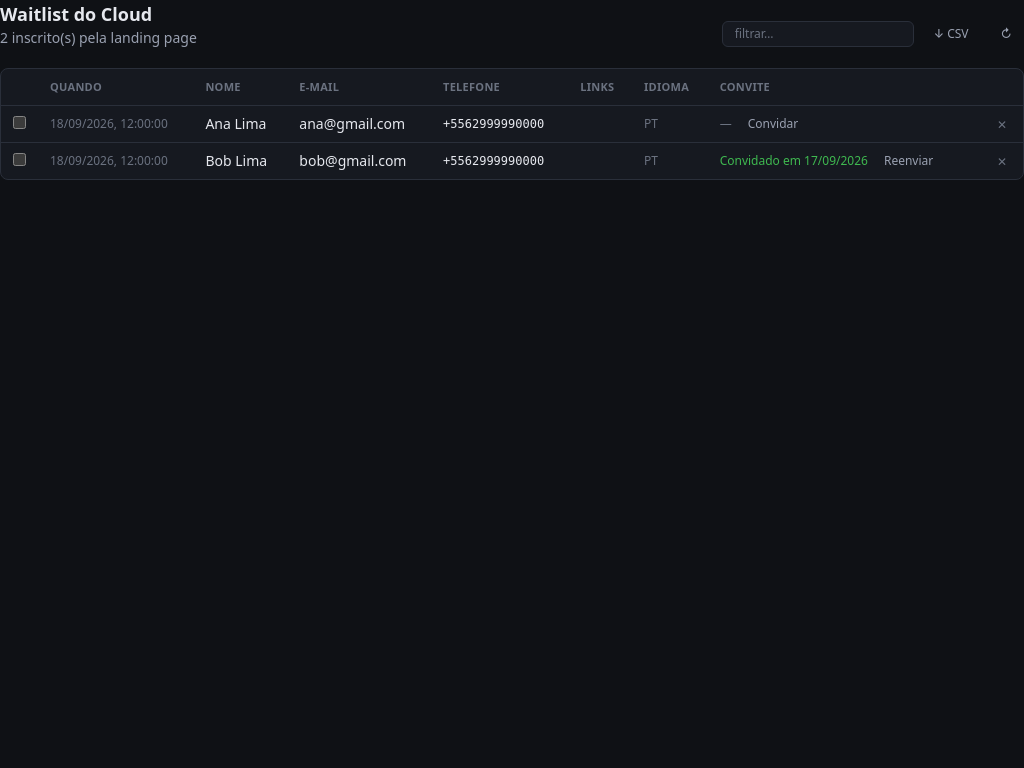
Test case: WaitlistView invites › invites the checked entries in one batch
The image size is (1024, 768).
Expected: the link "ana@gmail.com" is shown, [299,114,405,133]
Expected: the button "Convidar selecionados" is not shown
Click the checkbox named "Selecionar ana@gmail.com". click: click(20, 122)
box: [13,116,26,129]
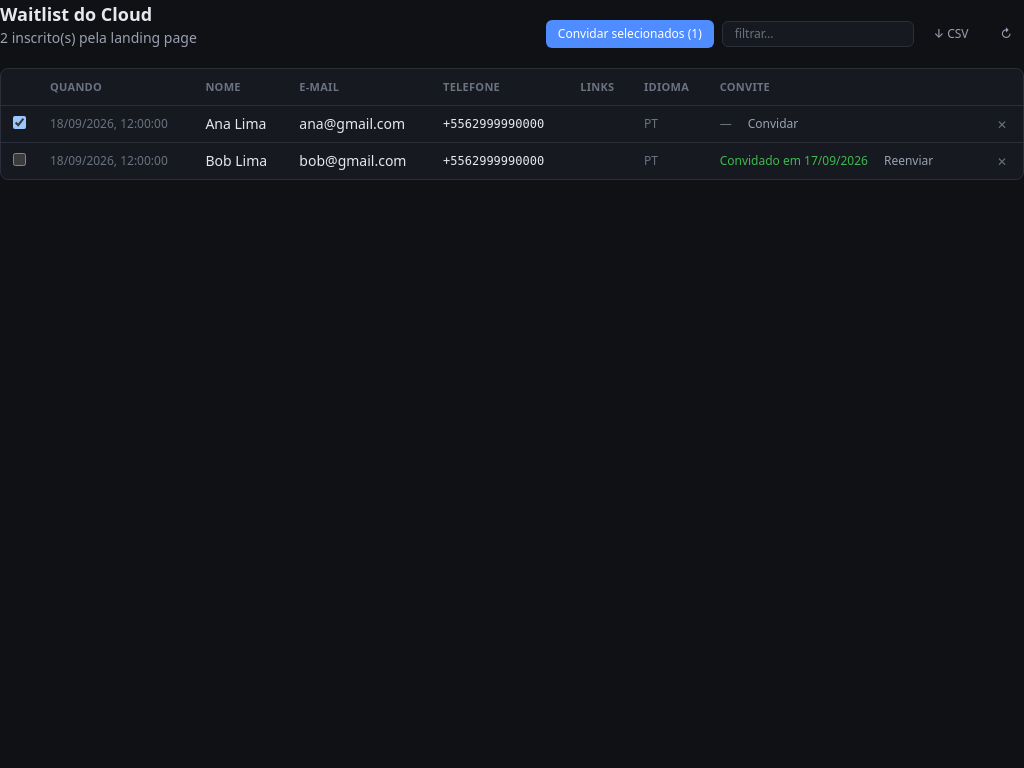
Click the checkbox named "Selecionar bob@gmail.com". click: click(20, 160)
box: [13,153,26,166]
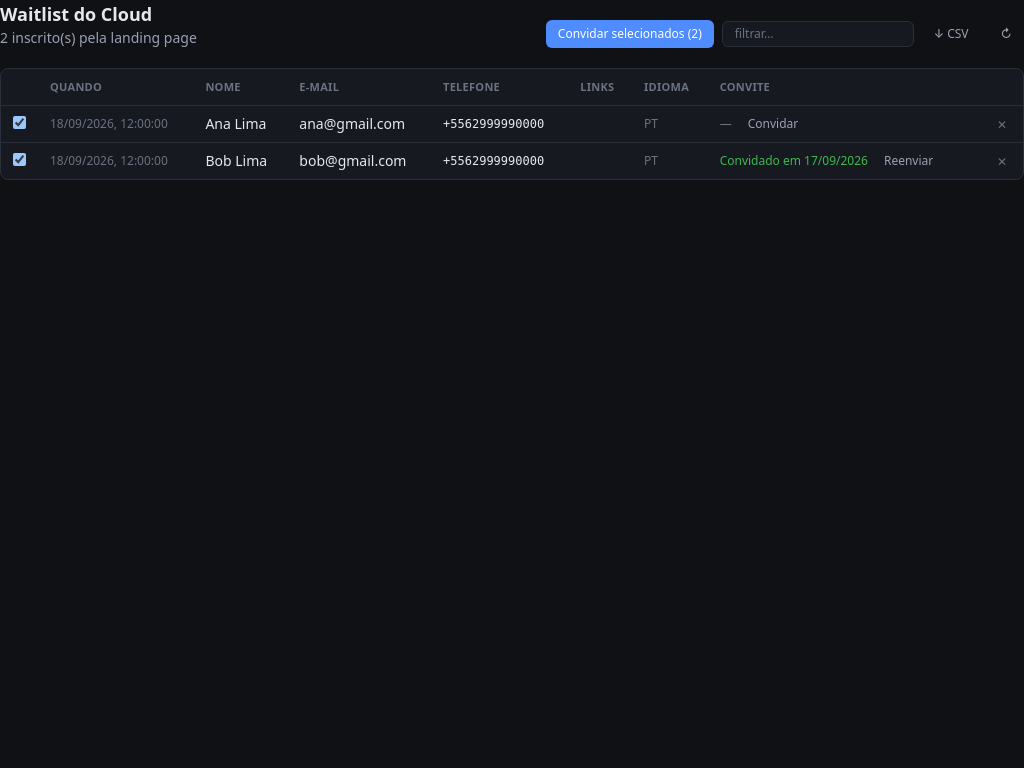
Click the button "Convidar selecionados (2)". click: click(630, 34)
box: [546,20,714,48]
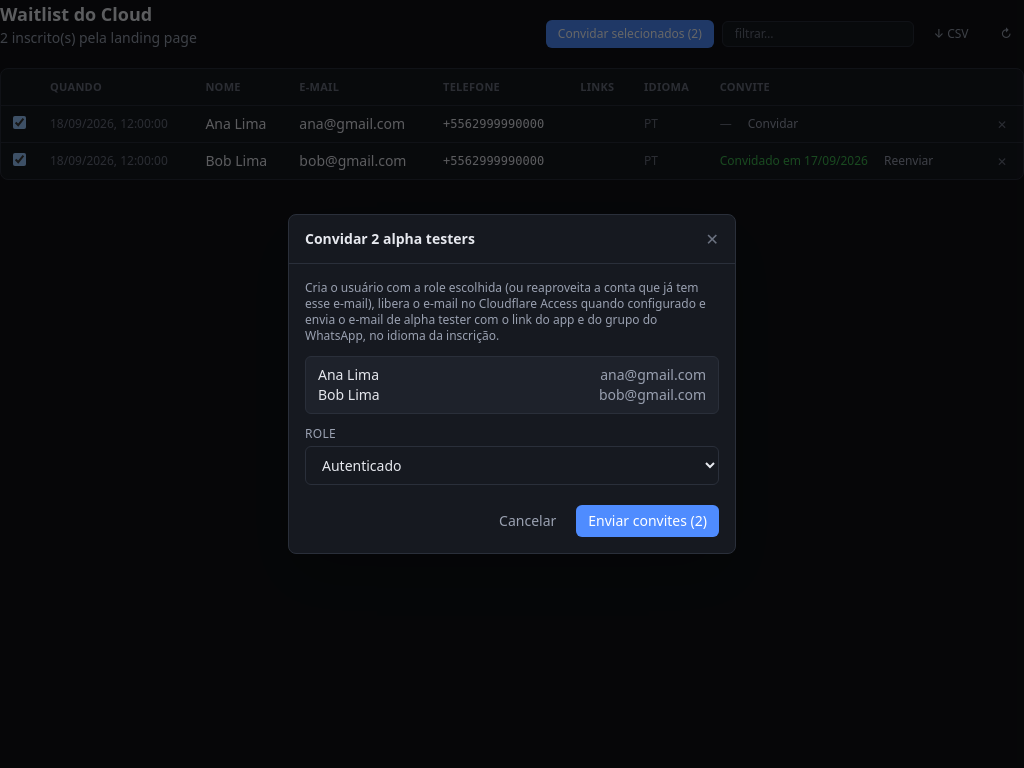
Click the button "Enviar convites (2)". click: click(648, 521)
box: [576,505,719,537]
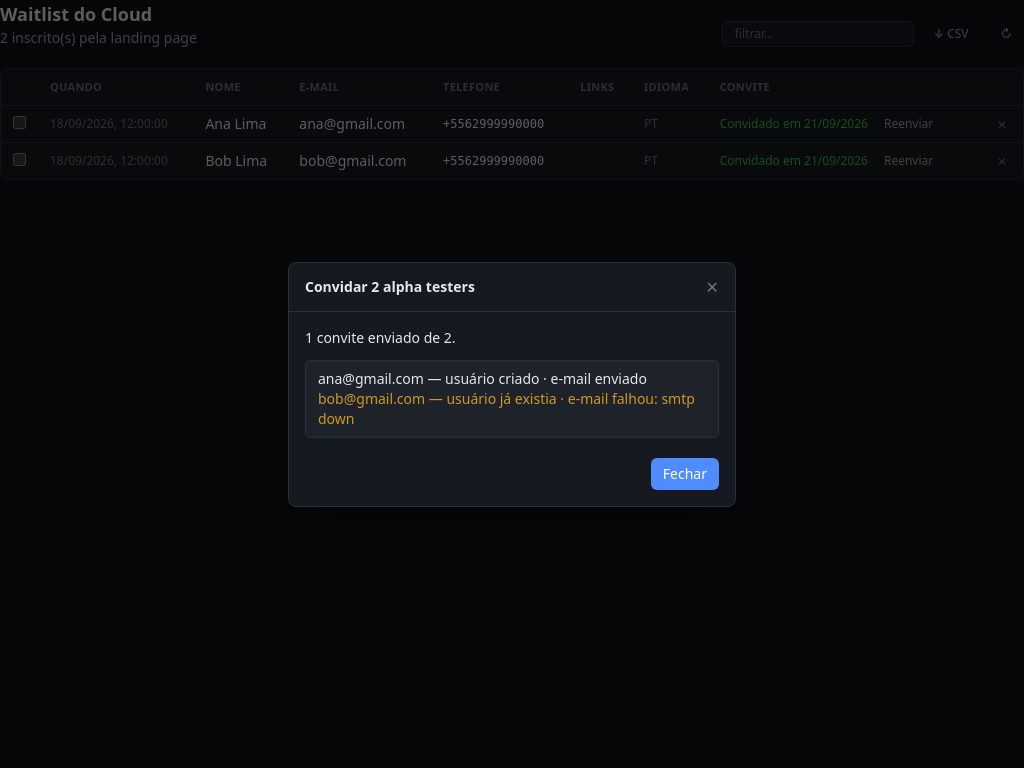
Expected: the text "1 convite enviado de 2." is shown, [305,328,456,346]
Expected: the list item "smtp down" is shown, [318,388,695,428]
